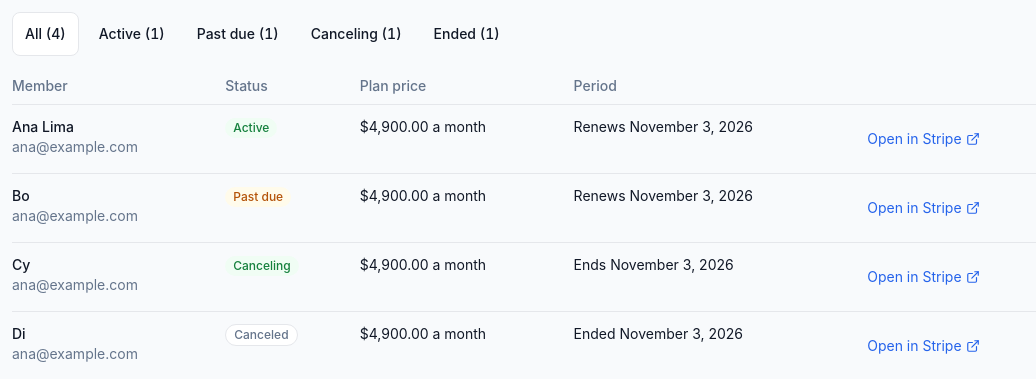
Scenario: SubscriptionTable › filters members by status
Click the button "Past due (1)": (238, 34) [185,12,291,56]
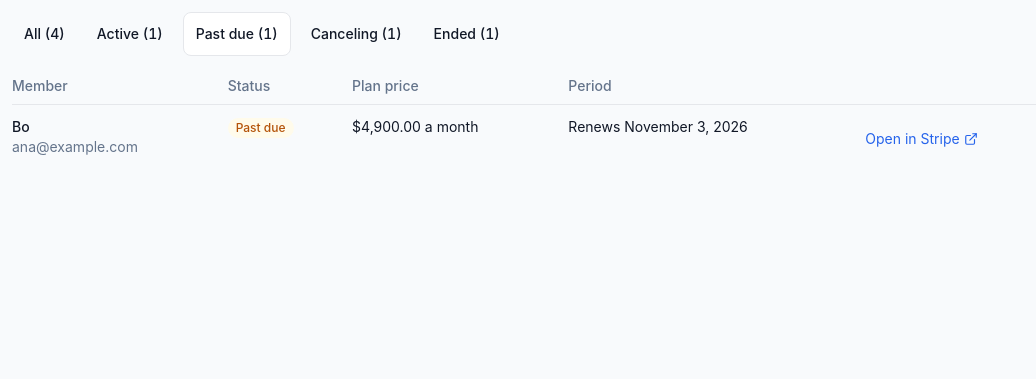
expect the text "Bo" is shown: met, box [12,118,30,135]
expect the text "Ana Lima" is gone: met
Click the button "Canceling (1)": (356, 34) [299,12,414,56]
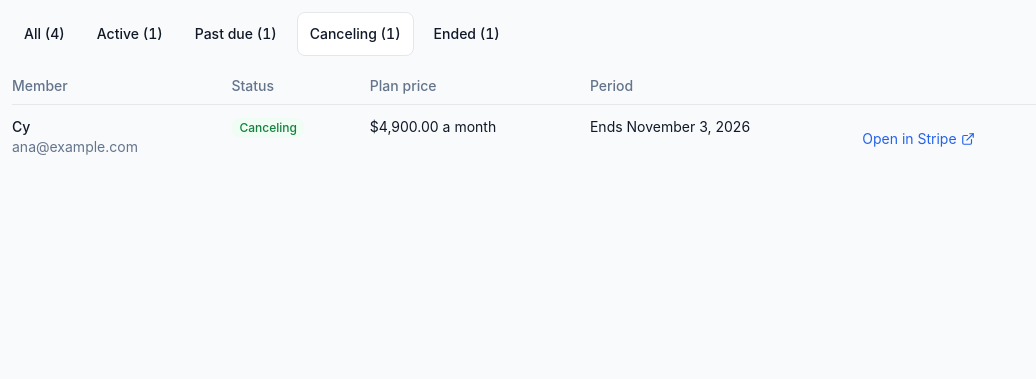
expect the text "Cy" is shown: met, box [12,118,30,135]
expect the text "Bo" is gone: met
Click the button "Ended (1)": (467, 34) [422,12,512,56]
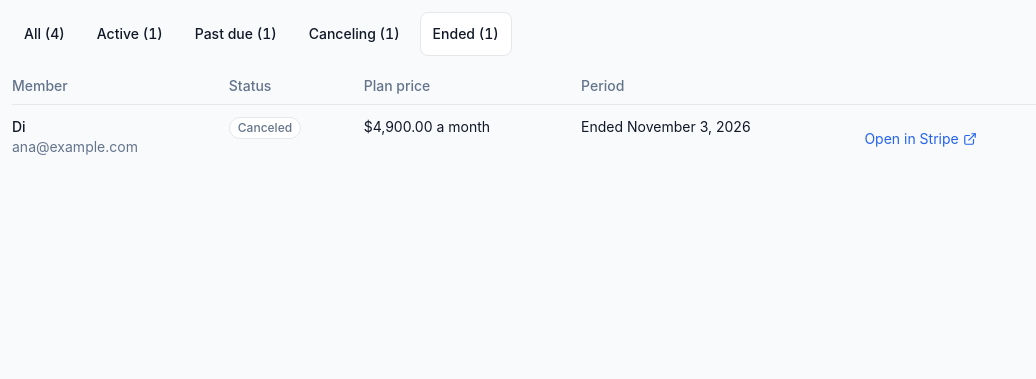
expect the text "Di" is shown: met, box [12,118,26,135]
Click the button "All (4)": (44, 34) [12,12,77,56]
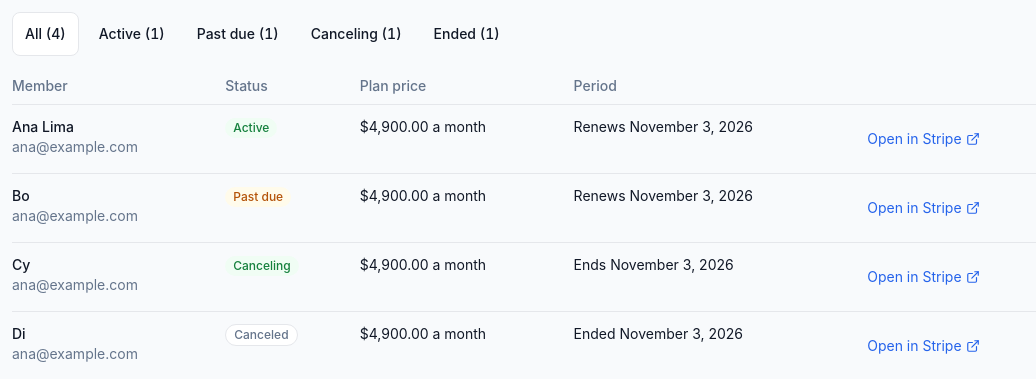
expect the text "Ana Lima" is shown: met, box [12,118,74,135]
